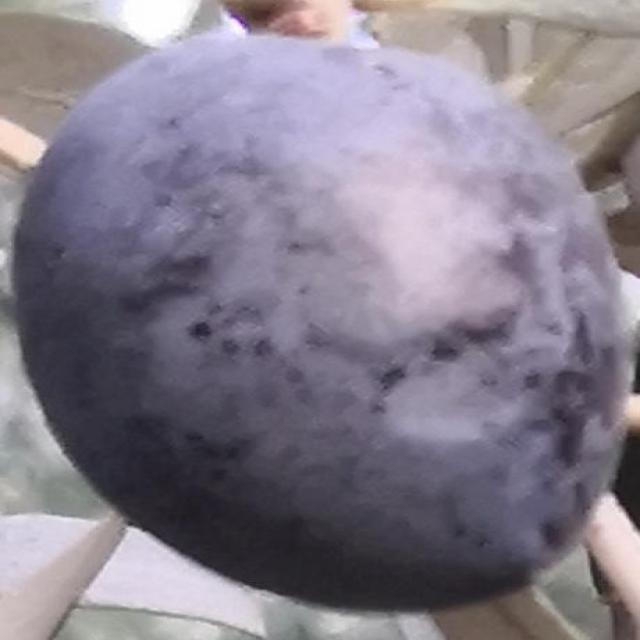Healthy: (15, 34, 627, 610)
